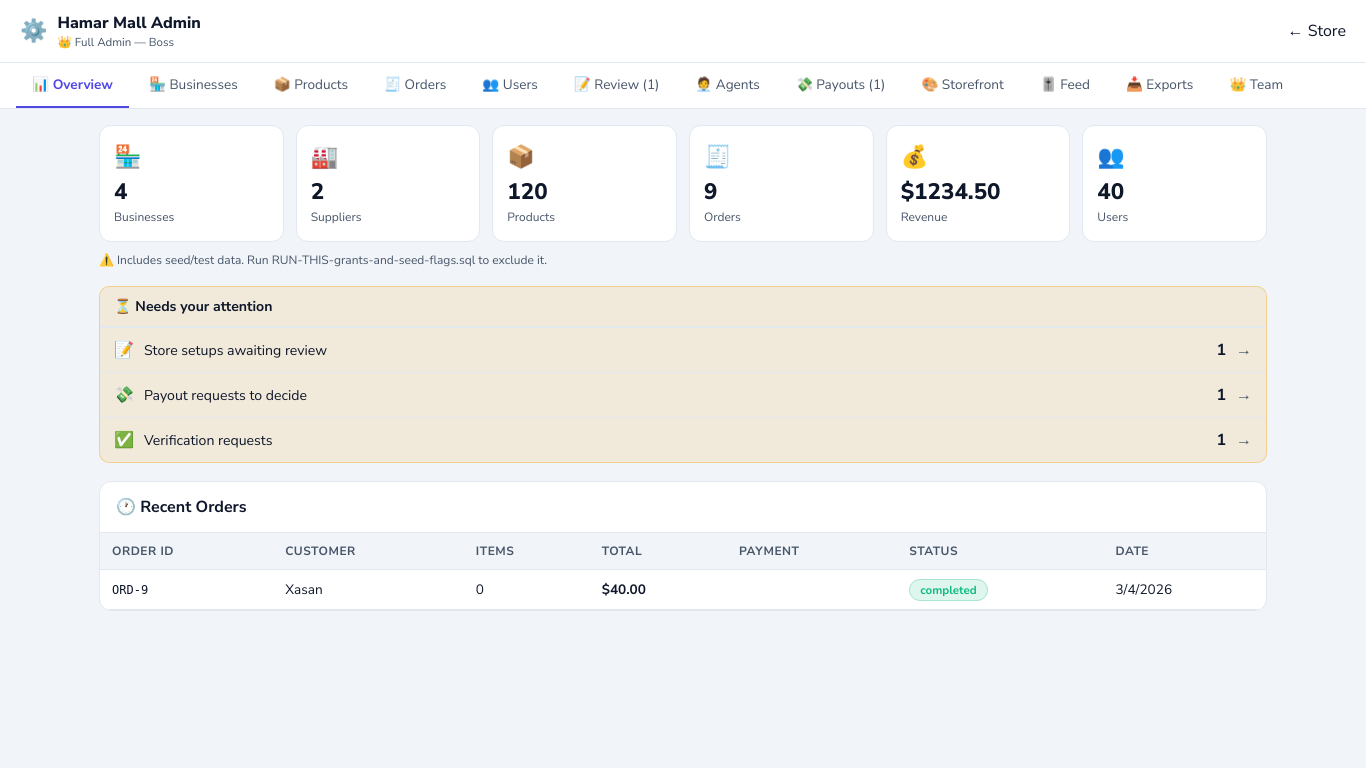
businesses › search narrows a derived view without destroying the list
The width and height of the screenshot is (1366, 768).
Click the button "🏪 Businesses". click: (193, 86)
box: left=133, top=63, right=254, bottom=108
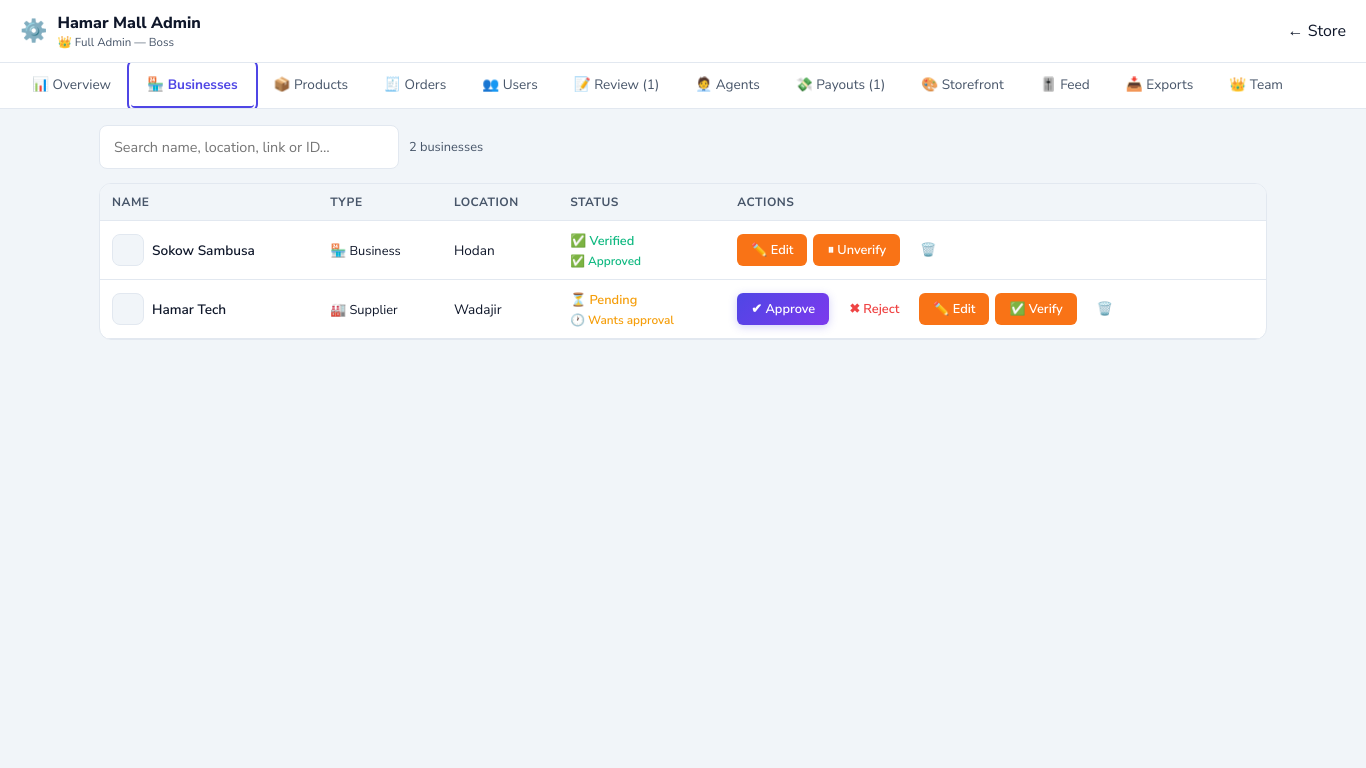
Expected: the text "Sokow Sambusa" is shown, left=152, top=240, right=255, bottom=260
Type "hamar" into the search field with placeholder "Search name, location, link or ID…". click: (249, 147)
box: left=99, top=125, right=399, bottom=169
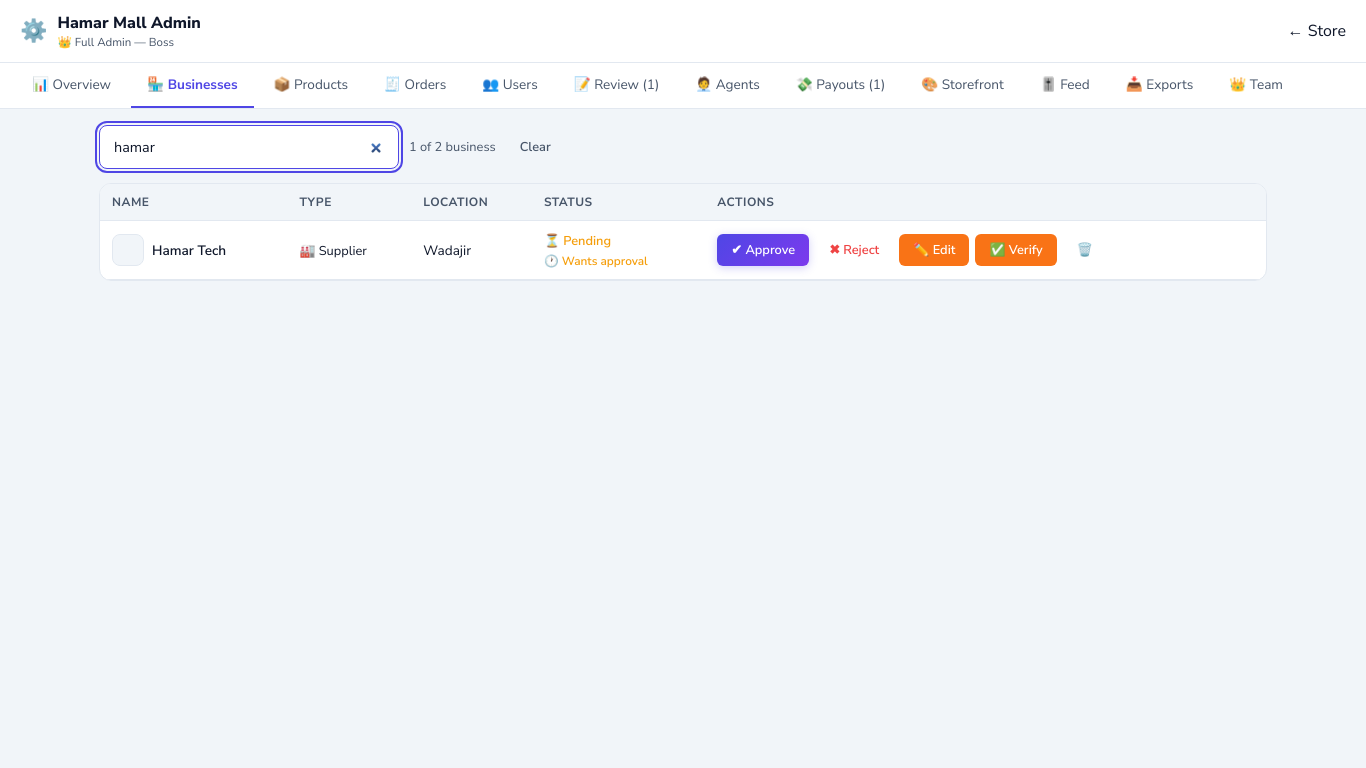
Expected: the text "Sokow Sambusa" is gone
Clear the search field with placeholder "Search name, location, link or ID…". click: (249, 147)
box: left=99, top=125, right=399, bottom=169
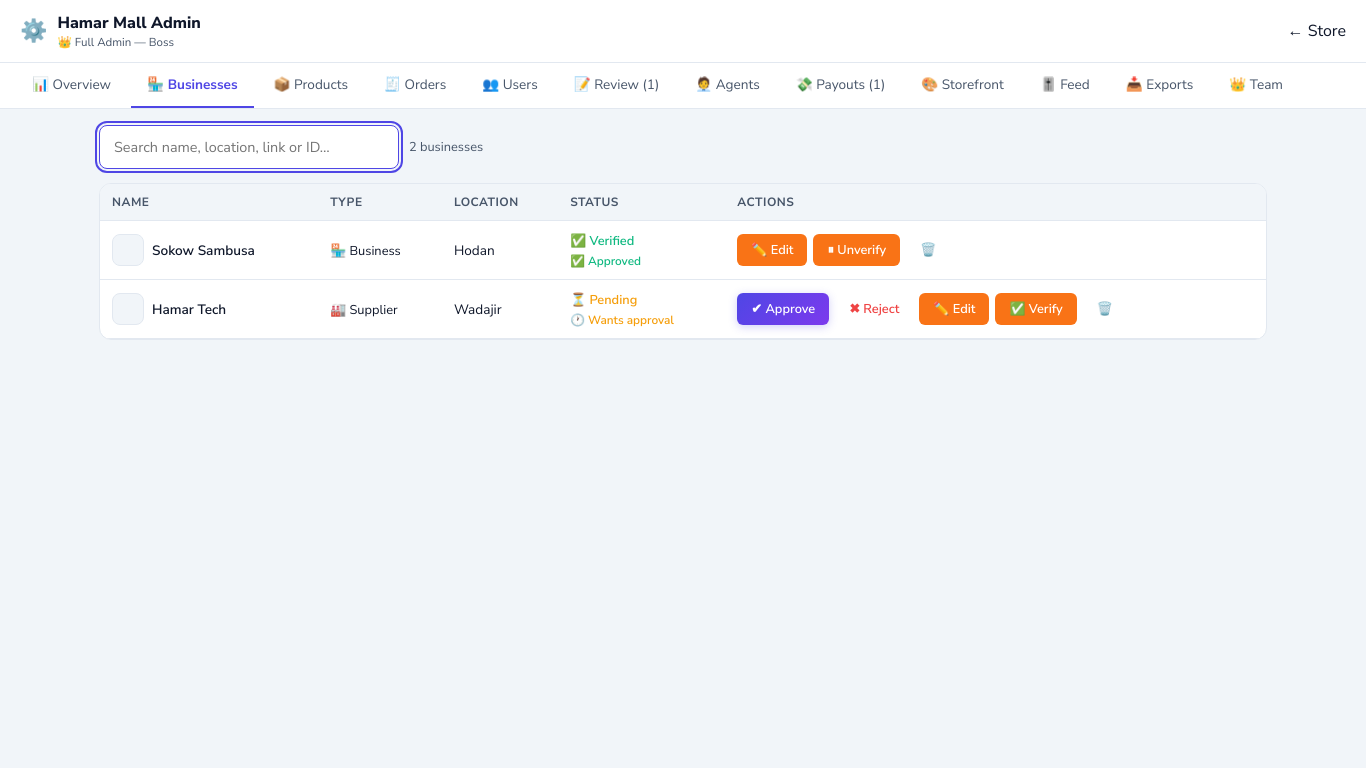
Expected: the text "Sokow Sambusa" is shown, left=152, top=240, right=255, bottom=260
